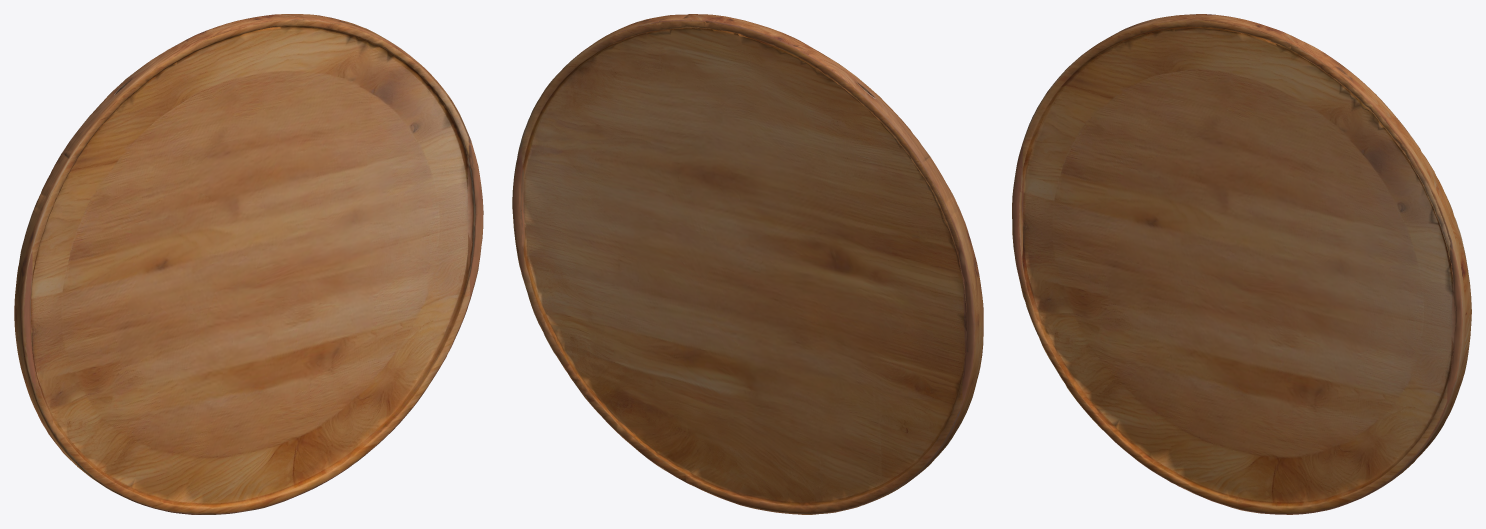
File: Meshy_AI_Wooden_Circle_0225023143_texture.glb
3 views of the same model, side by side, from view 1: azimuth 30°, elevation 25°; view 2: azimuth 150°, elevation 25°; view 3: azimuth 330°, elevation 25° (orthographic). The views are drawn at different scales.
Size of the model in its own units: 2 by 2 by 0.1425.
Materials: 1 (1 with a texture image).
